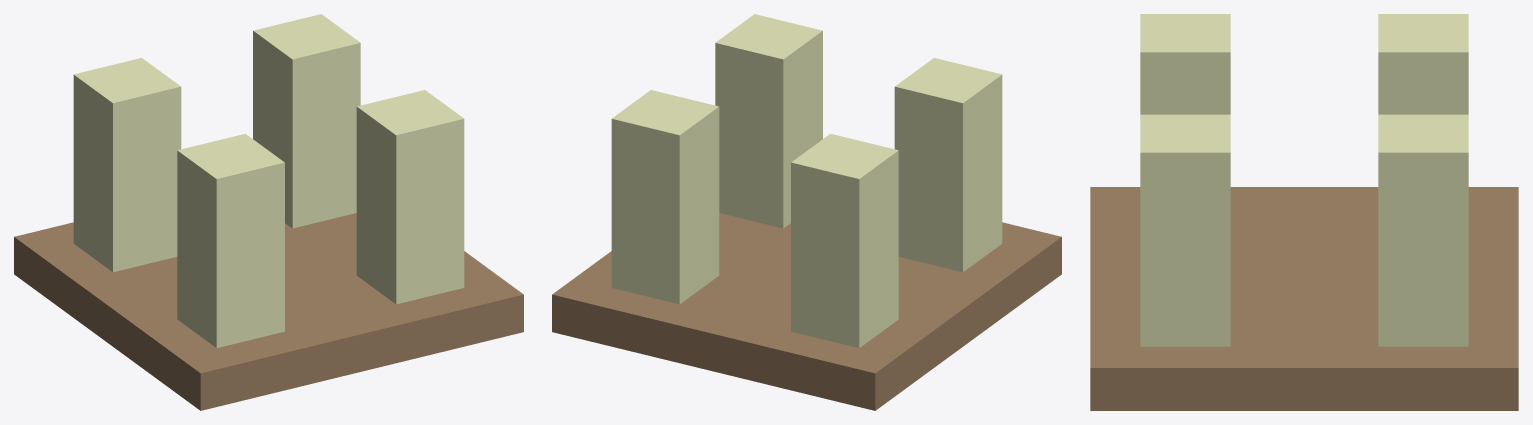
Rendered from Prop_DS_Crop_Spudlet_S3_V2.glb.
The picture shows the model from 3 angles, left to right: view 1: azimuth 30°, elevation 25°; view 2: azimuth 150°, elevation 25°; view 3: azimuth 270°, elevation 25°; orthographic projection. The views are drawn at different scales.
Parts seen in each view (by area): view 1: Cube, Cube.003, Cube.001, Cube.002, Cube.004; view 2: Cube, Cube.004, Cube.002, Cube.001, Cube.003; view 3: Cube, Cube.003, Cube.004, Cube.001, Cube.002.
Part boxes in pixels (box(x1,y1,x2,y2)): Cube: box(14, 213, 523, 410); Cube.003: box(356, 90, 464, 304); Cube.001: box(177, 133, 284, 348); Cube.002: box(73, 58, 181, 272); Cube.004: box(253, 14, 360, 228); Cube: box(552, 213, 1061, 410); Cube.004: box(611, 90, 719, 304); Cube.002: box(791, 133, 898, 348); Cube.001: box(894, 58, 1002, 272); Cube.003: box(715, 14, 822, 228); Cube: box(1090, 187, 1518, 410); Cube.003: box(1140, 114, 1230, 346); Cube.004: box(1378, 114, 1468, 346); Cube.001: box(1140, 14, 1230, 114); Cube.002: box(1378, 14, 1468, 114).
Bounding box in the file's own units: 0.9 × 0.55 × 0.9.
